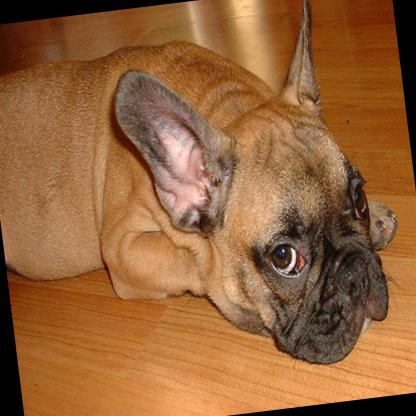French_bulldog: (0, 0, 413, 402)
